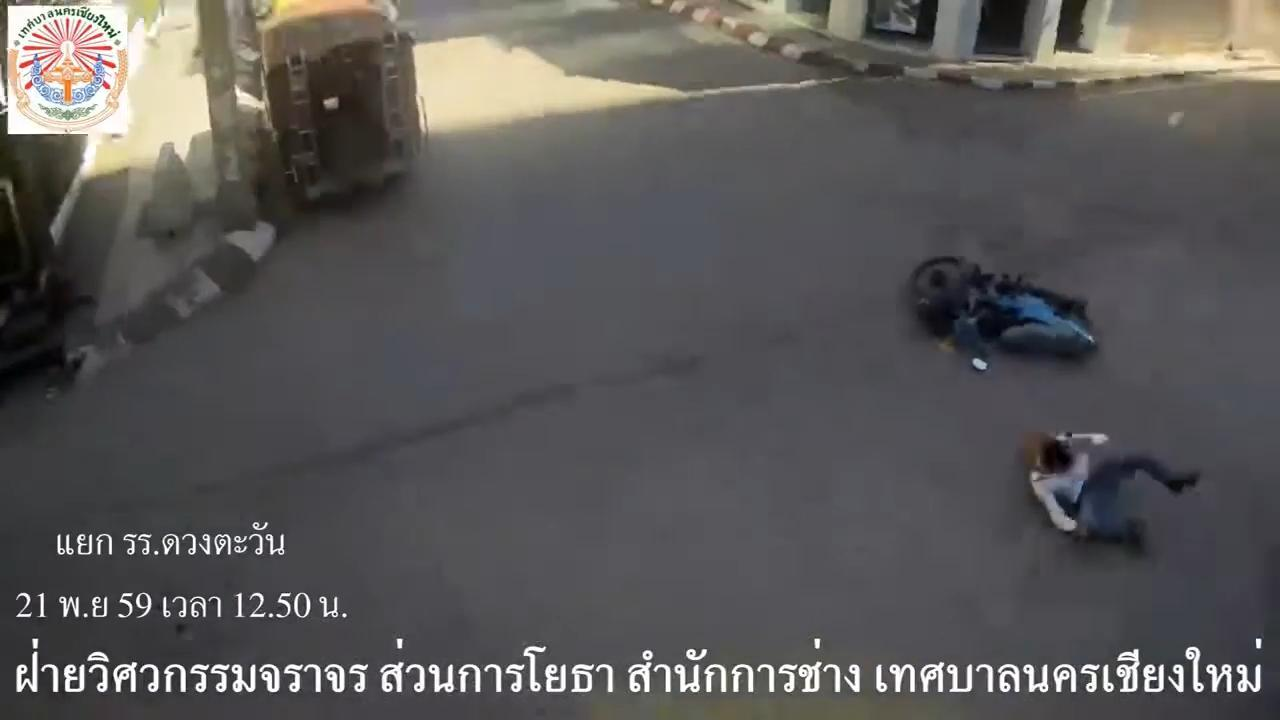accident: (1019, 423, 1206, 565)
